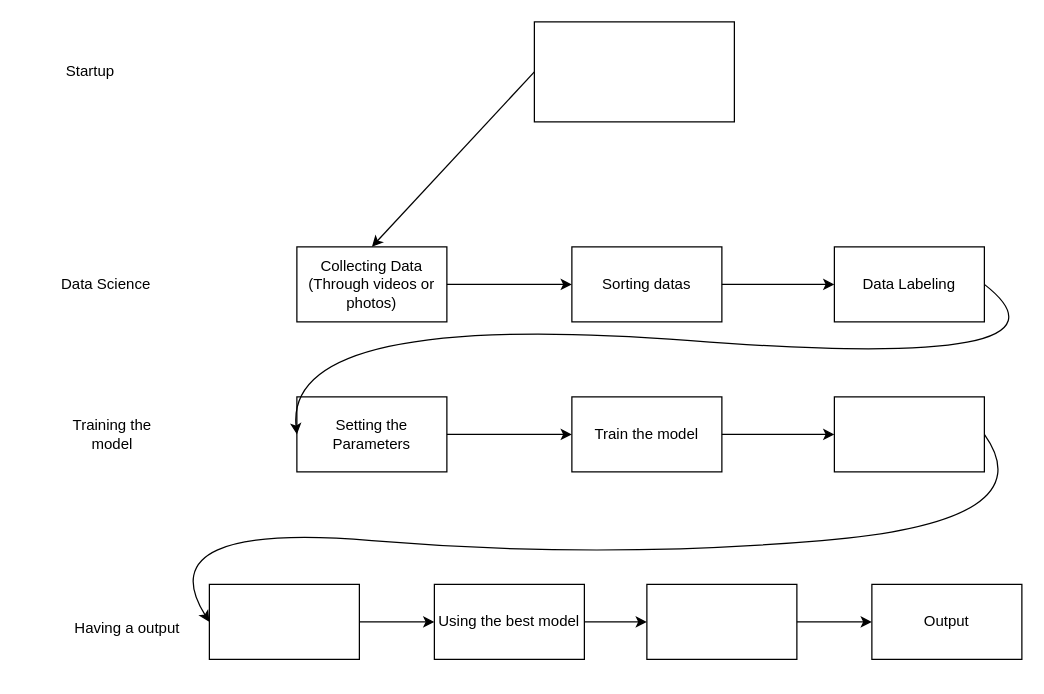
Some shapes in this 1044 by 694 pixel diagram are drawn without their labels. The centre of each missing label's shape, as x and y in pixels:
"Choosing a Object or Objects for Object Detection" belongs at point (633, 71).
"Having a best trained model" belongs at point (908, 434).
"İnput through different sources" belongs at point (283, 621).
"Prediction through GPU" belongs at point (721, 621).
